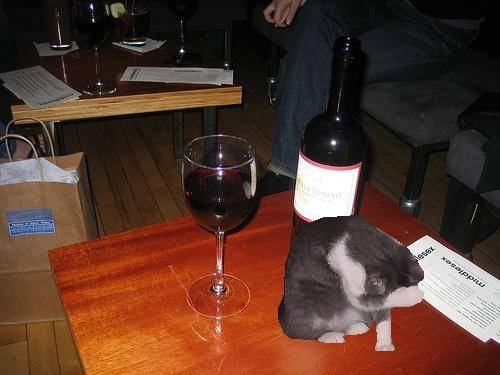tampered: (279, 215, 424, 351)
